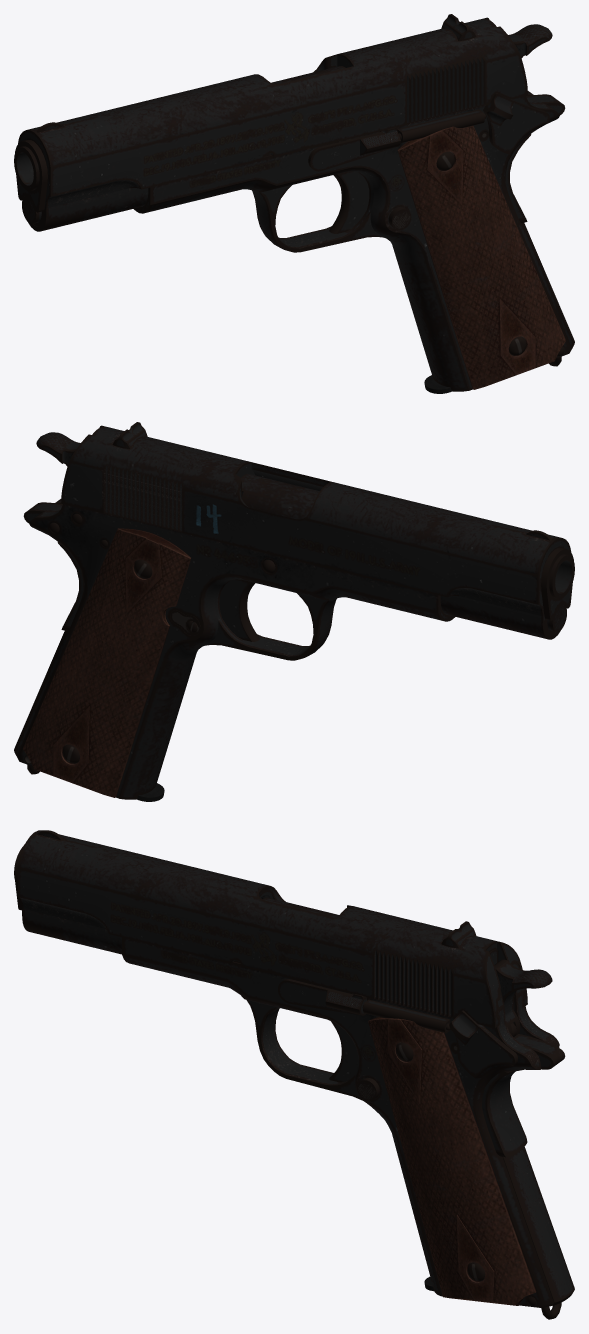
Rendered from colt_1911.glb.
3 renders of one model, top to bottom at view 1: azimuth 30°, elevation 25°; view 2: azimuth 150°, elevation 25°; view 3: azimuth 330°, elevation 25°, orthographic.
Visible parts, largest first — view 1: Object_3, Object_2; view 2: Object_3, Object_2; view 3: Object_3, Object_2.
Part boxes in pixels (box(x1,y1,x2,y2)): Object_3: box(27, 14, 574, 391); Object_2: box(14, 14, 574, 393); Object_3: box(14, 422, 561, 799); Object_2: box(14, 422, 574, 801); Object_3: box(17, 830, 559, 1307); Object_2: box(14, 830, 574, 1319).
Bounding box in the file's own units: 463 × 299 × 69.15.
Materials: 1 (1 with a texture image).
